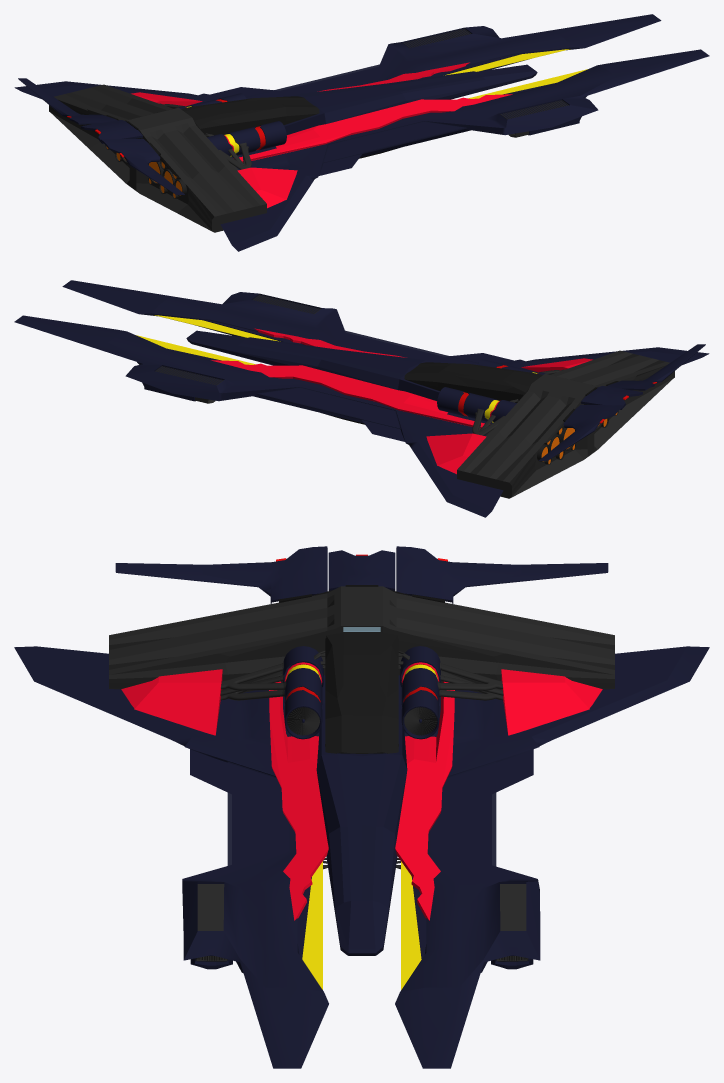
The model's file is decor.obj.
The picture shows the model from 3 angles, top to bottom: view 1: azimuth 30°, elevation 25°; view 2: azimuth 150°, elevation 25°; view 3: azimuth 270°, elevation 25°; orthographic projection. The views are drawn at different scales.
Parts seen in each view (by area): view 1: decor; view 2: decor; view 3: decor.
Part boxes in pixels (x1,y1,x2,y2): decor: (14, 14, 709, 251); decor: (14, 280, 709, 517); decor: (14, 546, 709, 1068).
Size of the model in its own units: 0.137 by 0.0151 by 0.0899.
